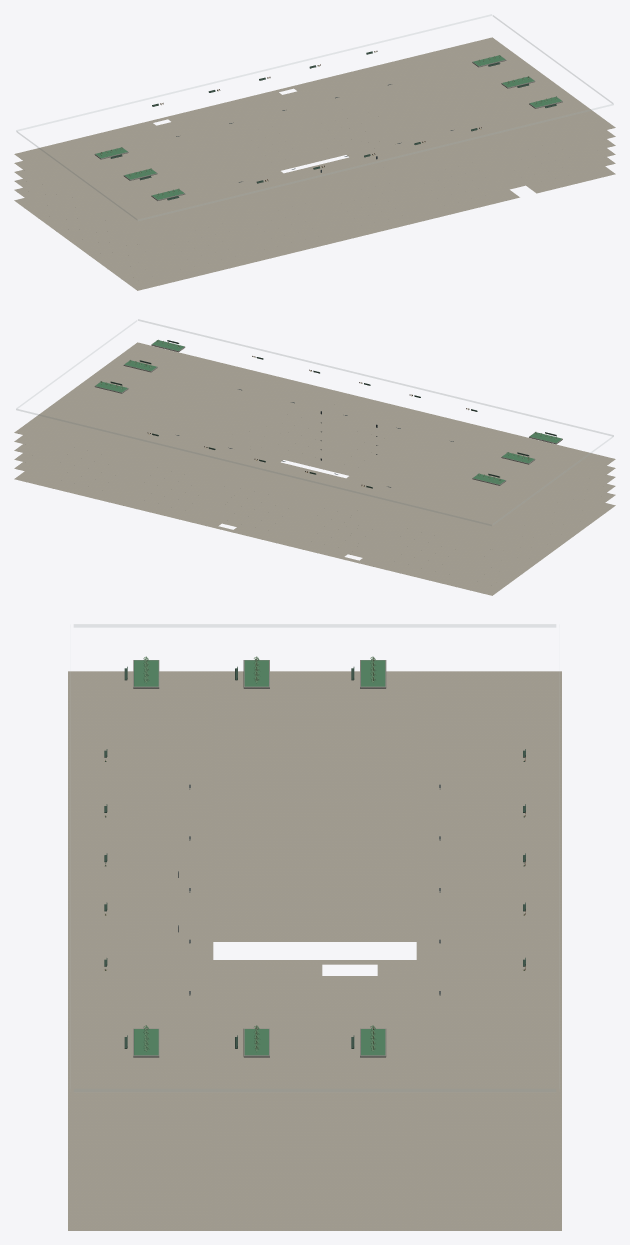
The model's file is shared.glb.
3 renders of one model, top to bottom at view 1: azimuth 30°, elevation 25°; view 2: azimuth 150°, elevation 25°; view 3: azimuth 270°, elevation 25°, orthographic. The views are drawn at different scales.
Visible parts, largest first — view 1: Batched Cream marble, Batched Tenant glass, Batched Roof lawn, Batched Travertine, Batched Sage upholstery; view 2: Batched Cream marble, Batched Tenant glass, Batched Roof lawn, Batched Travertine; view 3: Batched Cream marble, Batched Roof lawn, Batched Tenant glass, Batched Travertine.
Part boxes in pixels (left/top/right/bottom): Batched Cream marble: left=14, top=37, right=615, bottom=290; Batched Tenant glass: left=16, top=14, right=613, bottom=220; Batched Roof lawn: left=95, top=55, right=561, bottom=199; Batched Travertine: left=94, top=56, right=562, bottom=200; Batched Sage upholstery: left=110, top=51, right=556, bottom=200; Batched Cream marble: left=14, top=342, right=615, bottom=595; Batched Tenant glass: left=16, top=319, right=613, bottom=525; Batched Roof lawn: left=95, top=340, right=561, bottom=484; Batched Travertine: left=94, top=341, right=562, bottom=485; Batched Cream marble: left=68, top=671, right=561, bottom=1230; Batched Roof lawn: left=134, top=660, right=385, bottom=1055; Batched Tenant glass: left=74, top=624, right=555, bottom=1091; Batched Travertine: left=133, top=660, right=386, bottom=1057.
Size of the model in its own units: 380 by 55.4 by 170.
Materials: 10 (4 with a texture image).
